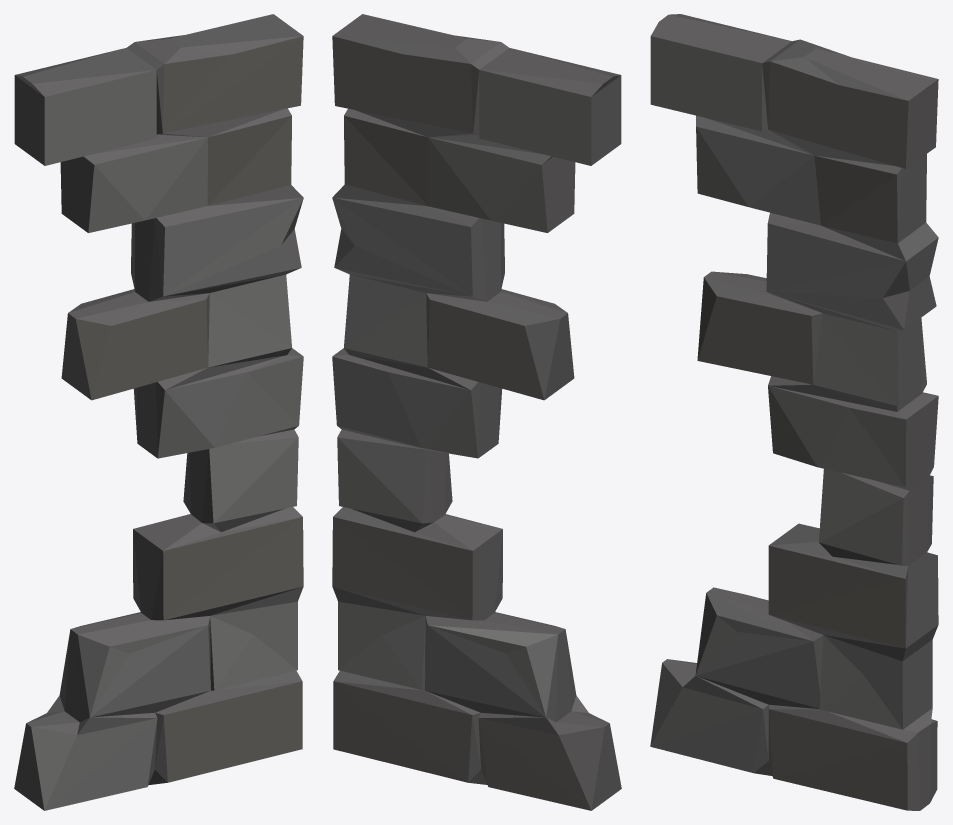
Rendered from SM_Env_Wall_Broken_Edge_02.FBX.
The picture shows the model from 3 angles, left to right: view 1: azimuth 30°, elevation 25°; view 2: azimuth 150°, elevation 25°; view 3: azimuth 330°, elevation 25°; orthographic projection.
Parts seen in each view (by area): view 1: SM_Env_Wall_Broken_Edge_02; view 2: SM_Env_Wall_Broken_Edge_02; view 3: SM_Env_Wall_Broken_Edge_02.
Boxes of the visible parts, x1=… form: SM_Env_Wall_Broken_Edge_02: x1=14, y1=14, x2=303, y2=810; SM_Env_Wall_Broken_Edge_02: x1=332, y1=14, x2=621, y2=810; SM_Env_Wall_Broken_Edge_02: x1=650, y1=14, x2=938, y2=810.
Size of what is drawn, in the model's own units: 192 by 43.32 by 510.
